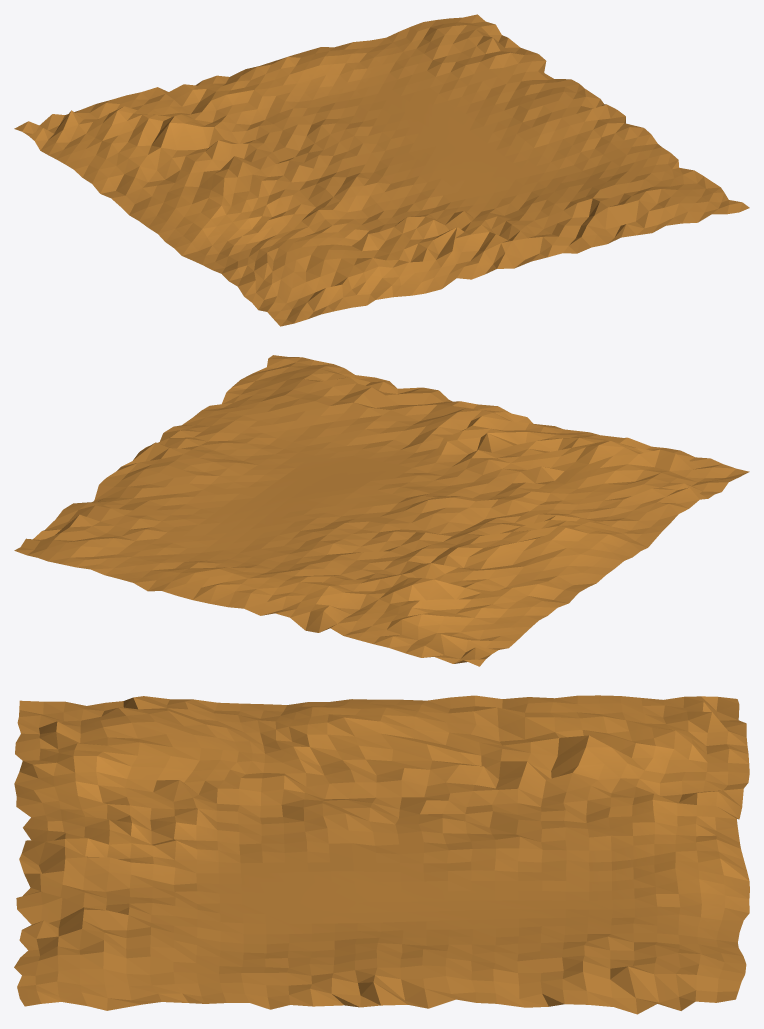
Rendered from ground.fbx.
3 renders of one model, top to bottom at view 1: azimuth 30°, elevation 25°; view 2: azimuth 150°, elevation 25°; view 3: azimuth 270°, elevation 25°, orthographic. The views are drawn at different scales.
Visible parts, largest first — view 1: Cube.572; view 2: Cube.572; view 3: Cube.572.
Boxes of the visible parts, x1,y1,x2,y2 form: Cube.572: (14, 14, 749, 326); Cube.572: (14, 355, 749, 666); Cube.572: (14, 695, 749, 1014).
Bounding box in the file's own units: 155 × 8.74 × 156.
Materials: 1 (1 with a texture image).
